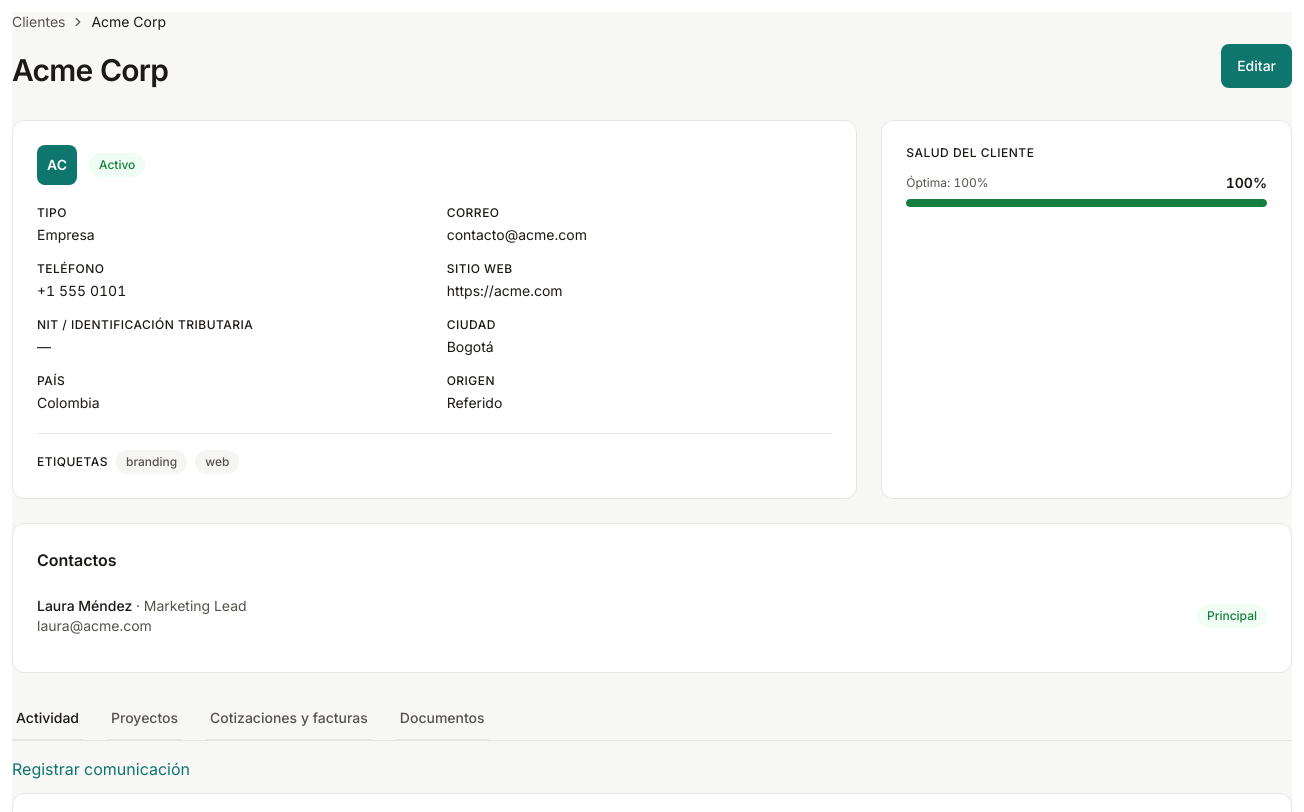
Test case: HU-01.3 Ver detalle y editar cliente — pestañas › documents tab shows kind as text and file name for a file document
This screenshot has width=1304, height=812.
Click the tab "Documentos".
click(442, 719)  # box [396,697,489,741]
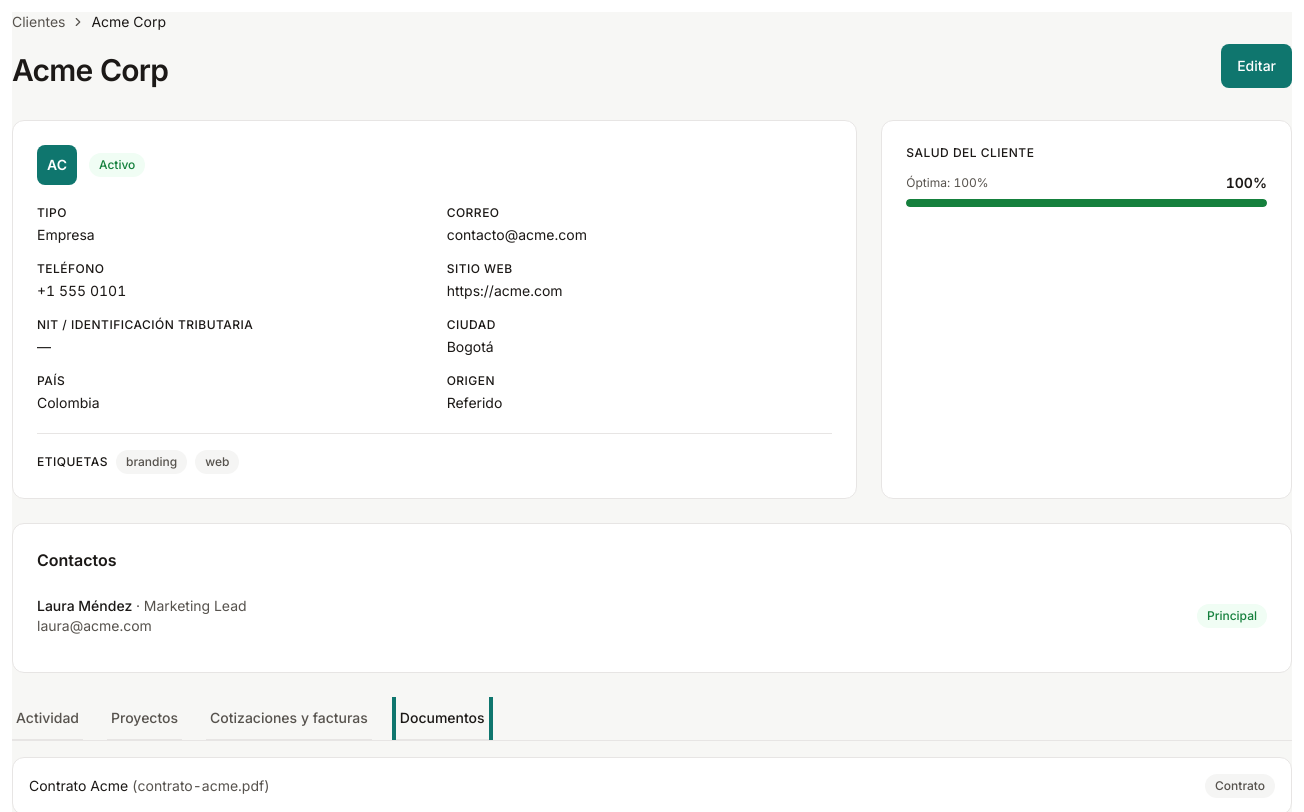
Check: the text "Contrato Acme" is shown, box [29,777,128,794]
Check: the text "Contrato" is shown, box [1205,774,1275,798]
